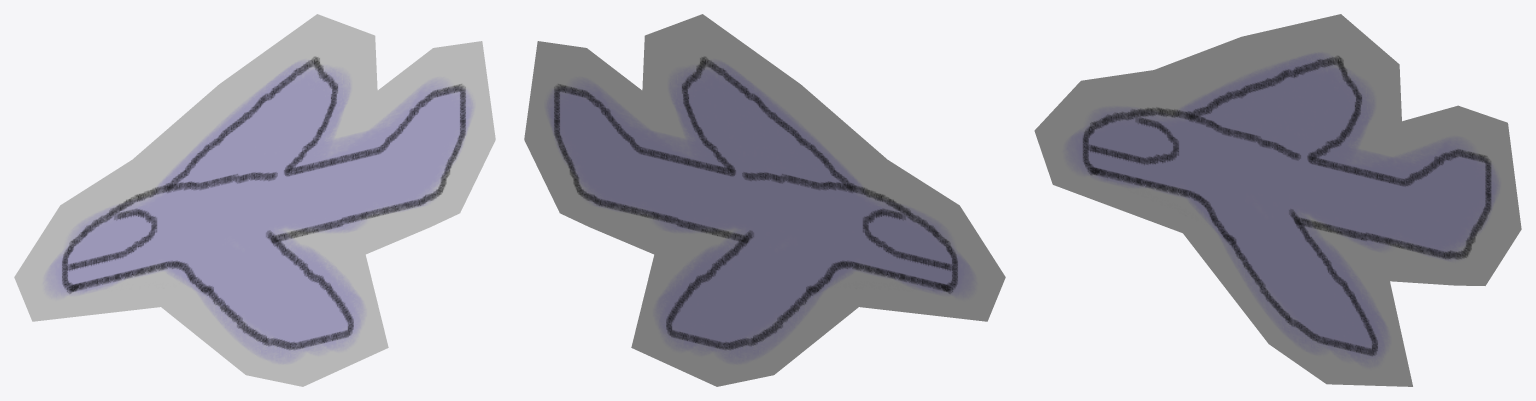
Rendered from Flygplan.fbx.
3 renders of one model, left to right at view 1: azimuth 30°, elevation 25°; view 2: azimuth 150°, elevation 25°; view 3: azimuth 330°, elevation 25°, orthographic.
Visible parts, largest first — view 1: Plane.014; view 2: Plane.014; view 3: Plane.014.
Boxes of the visible parts, x1=… form: Plane.014: x1=14, y1=14, x2=495, y2=386; Plane.014: x1=524, y1=14, x2=1005, y2=386; Plane.014: x1=1034, y1=14, x2=1521, y2=386.
Size of the model in its own units: 72.25 by 52.96 by 8.63e-06.
1 material, 1 textured.
